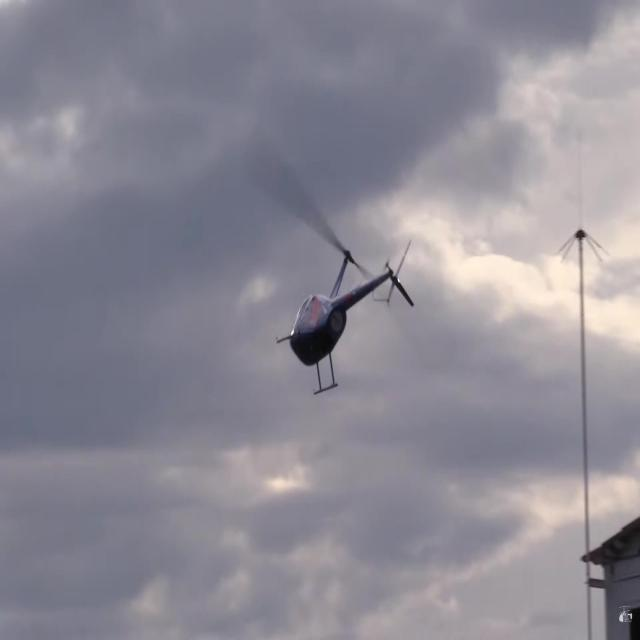CIV_HELO: (275, 237, 415, 397)
